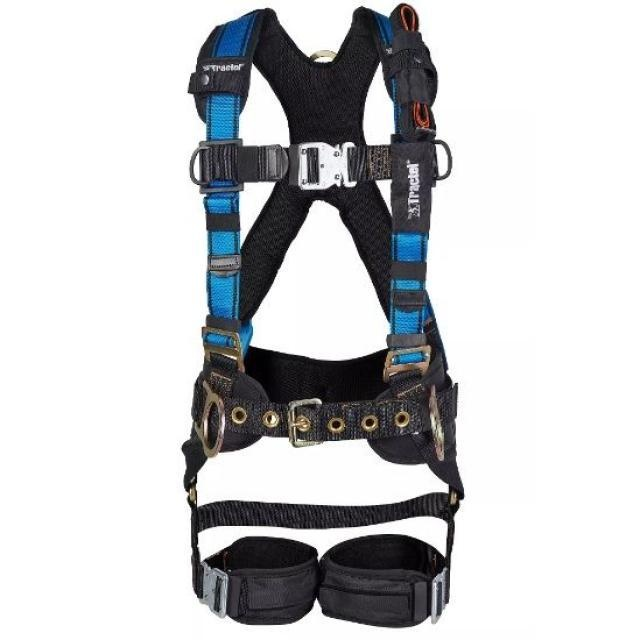Arnes_seguridad: (175, 4, 466, 632)
